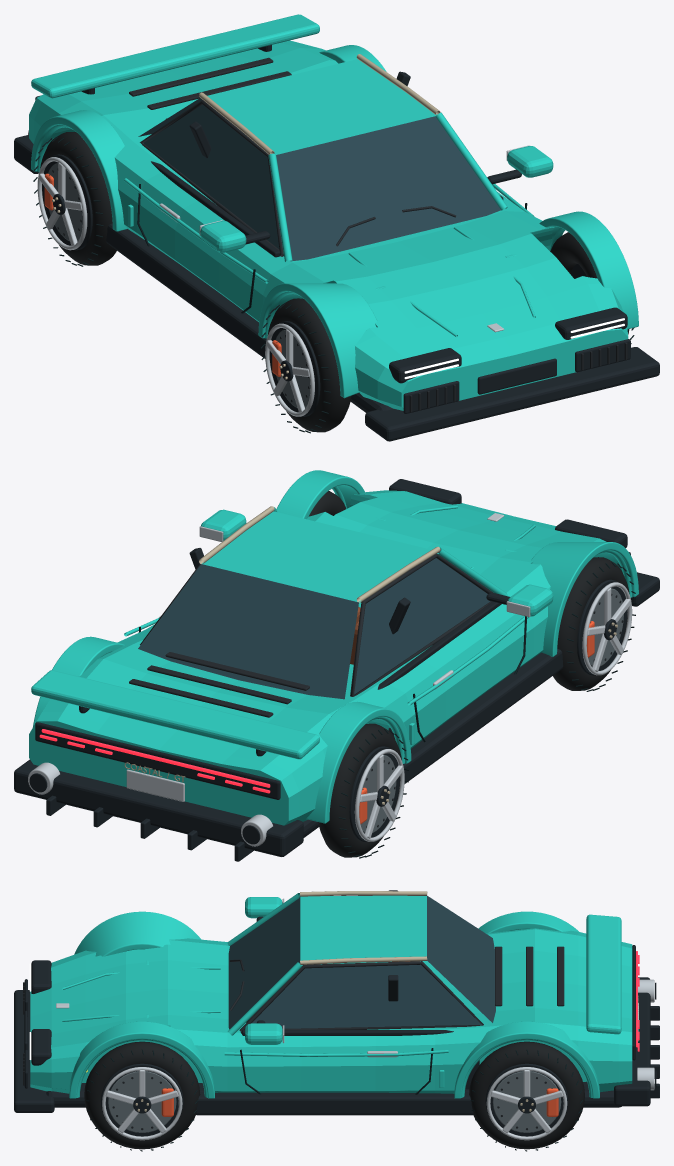
File: car.glb
3 renders of one model, top to bottom at view 1: azimuth 30°, elevation 25°; view 2: azimuth 150°, elevation 25°; view 3: azimuth 270°, elevation 25°, orthographic. The views are drawn at different scales.
Parts seen in each view (by area): view 1: Body / satin metallic paint, Body / smoked glass, Body / carbon, Body / graphite trim, wheel_left_front / rubber, wheel_left_rear / rubber, wheel_left_front / machined alloy, wheel_left_rear / machined alloy, Body / brushed champagne metal, wheel_left_front / carbon, wheel_left_rear / carbon, wheel_right_front / rubber (+3 smaller); view 2: Body / satin metallic paint, Body / smoked glass, Body / carbon, Body / graphite trim, wheel_left_rear / rubber, wheel_left_front / rubber, Body / machined alloy, wheel_left_rear / machined alloy, wheel_left_front / machined alloy, Body / tail LED, Body / brushed champagne metal, wheel_left_front / carbon (+3 smaller); view 3: Body / satin metallic paint, Body / smoked glass, Body / carbon, wheel_right_front / rubber, wheel_right_rear / rubber, Body / graphite trim, wheel_right_rear / brake rotors, wheel_right_front / brake rotors, wheel_right_rear / machined alloy, wheel_right_front / machined alloy, Body / brushed champagne metal, wheel_right_rear / carbon (+3 smaller).
Part boxes in pixels (box(x1,y1,x2,y2)): Body / satin metallic paint: box(29, 14, 638, 410); Body / smoked glass: box(138, 98, 500, 261); Body / carbon: box(14, 45, 659, 441); Body / graphite trim: box(129, 57, 627, 412); wheel_left_front / rubber: box(267, 298, 351, 432); wheel_left_rear / rubber: box(40, 132, 116, 265); wheel_left_front / machined alloy: box(265, 323, 314, 416); wheel_left_rear / machined alloy: box(37, 157, 87, 250); Body / brushed champagne metal: box(199, 54, 440, 154); wheel_left_front / carbon: box(269, 321, 320, 416); wheel_left_rear / carbon: box(42, 154, 92, 250); wheel_right_front / rubber: box(550, 232, 629, 334); Body / satin metallic paint: box(29, 470, 638, 825); Body / smoked glass: box(138, 552, 490, 699); Body / carbon: box(14, 479, 659, 861); Body / graphite trim: box(129, 553, 493, 717); wheel_left_rear / rubber: box(318, 723, 401, 857); wheel_left_front / rubber: box(553, 557, 629, 690); Body / machined alloy: box(28, 513, 530, 846); wheel_left_rear / machined alloy: box(354, 749, 404, 841); wheel_left_front / machined alloy: box(582, 582, 632, 675); Body / tail LED: box(39, 729, 270, 793); Body / brushed champagne metal: box(124, 506, 440, 782); wheel_left_front / carbon: box(577, 579, 627, 675); Body / satin metallic paint: box(30, 893, 632, 1098); Body / smoked glass: box(228, 895, 495, 1029); Body / carbon: box(14, 890, 659, 1115); wheel_right_front / rubber: box(84, 1041, 200, 1149); wheel_right_rear / rubber: box(469, 1041, 584, 1149); Body / graphite trim: box(23, 895, 564, 1085); wheel_right_rear / brake rotors: box(492, 1071, 561, 1132); wheel_right_front / brake rotors: box(108, 1071, 176, 1132); wheel_right_rear / machined alloy: box(486, 1067, 567, 1140); wheel_right_front / machined alloy: box(102, 1067, 182, 1140); Body / brushed champagne metal: box(300, 891, 638, 1019); wheel_right_rear / carbon: box(485, 1063, 568, 1136).
Bounding box in the file's own units: 2.43 × 1.36 × 4.79.
